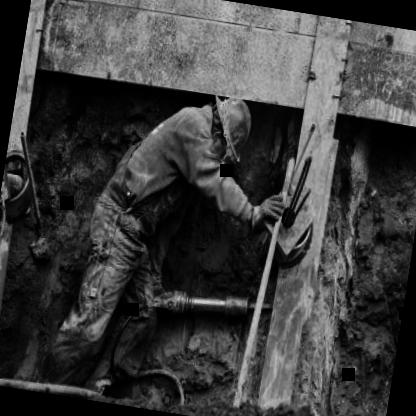helmet: (204, 91, 260, 162)
